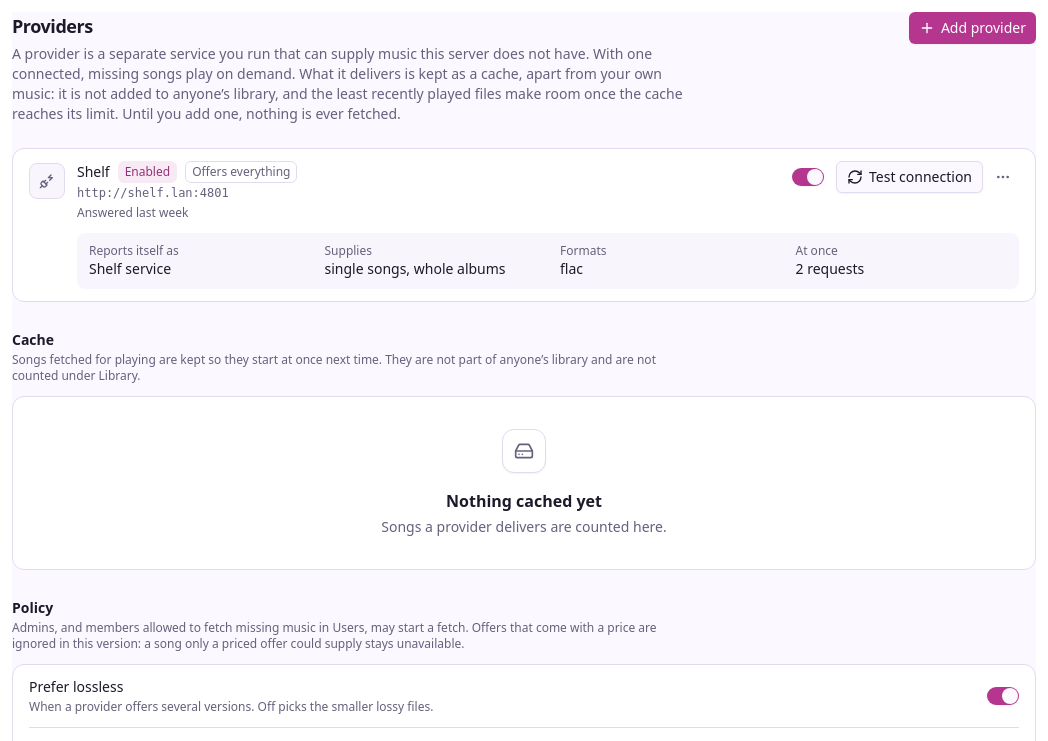
it: providers admin › says on the provider's row why it could not be turned off
Step 1. Click the switch named "Enable Shelf" → (808, 177), box [792,168,824,186]
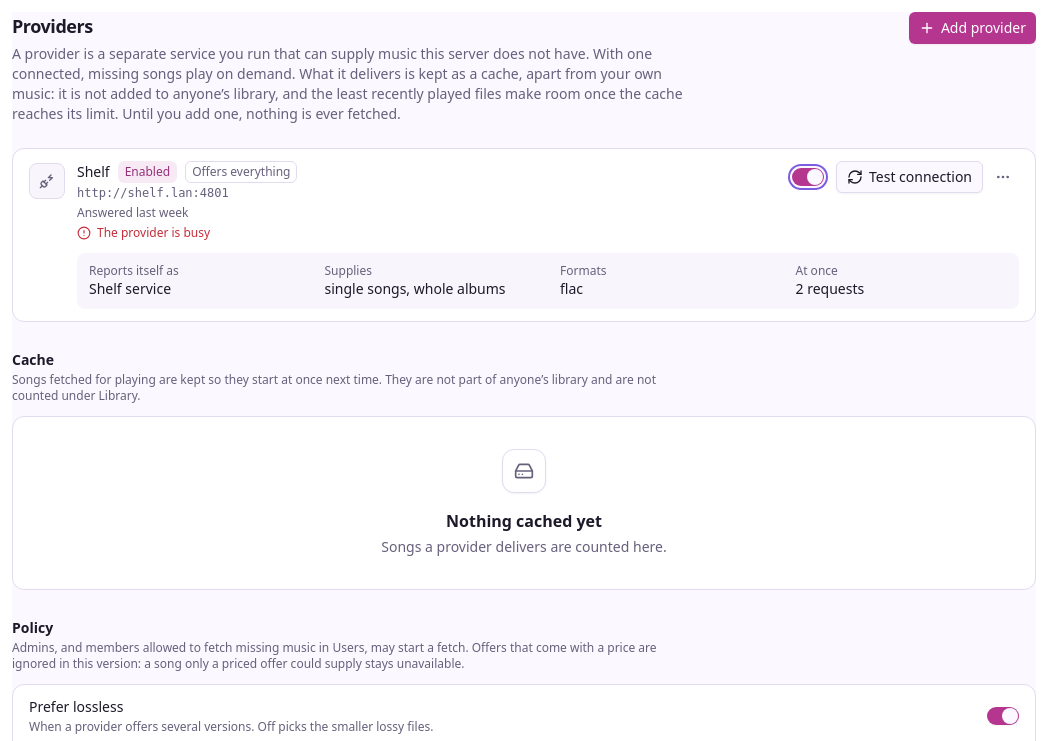
Result: the text "The provider is busy" is shown at [97,225,210,241]
